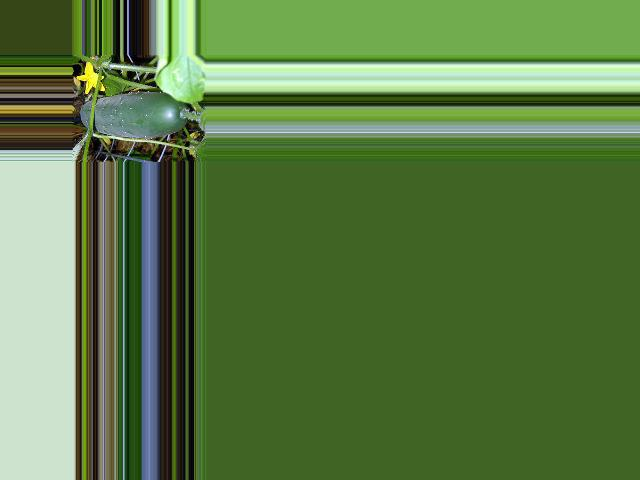cucumber: (81, 92, 190, 138)
